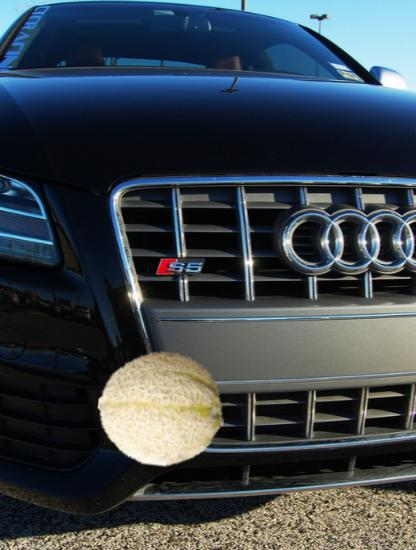Cantaloupe: (98, 345, 226, 473)
